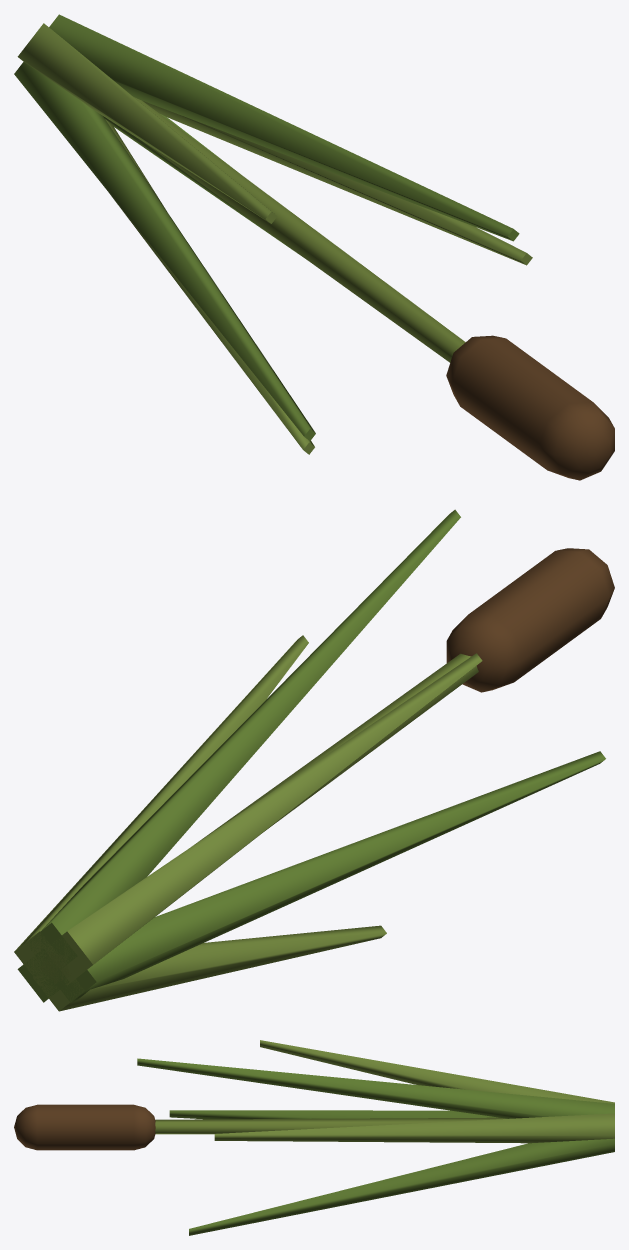
The model's file is reed.glb.
3 views of the same model, one above another, from view 1: azimuth 30°, elevation 25°; view 2: azimuth 150°, elevation 25°; view 3: azimuth 270°, elevation 25° (orthographic). The views are drawn at different scales.
Visible parts, largest first — view 1: ReedMesh; view 2: ReedMesh; view 3: ReedMesh.
Boxes of the visible parts, box(x1,y1,x2,y2) form: ReedMesh: box(14, 14, 614, 480); ReedMesh: box(14, 509, 614, 1011); ReedMesh: box(14, 1040, 614, 1235).
Bounding box in the file's own units: 0.3075 × 0.3187 × 1.
